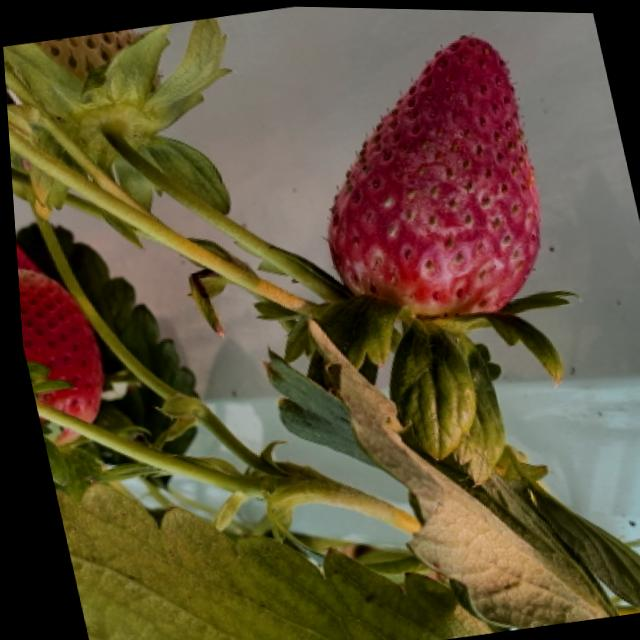Powdery Mildew Fruit: (323, 31, 538, 315)
